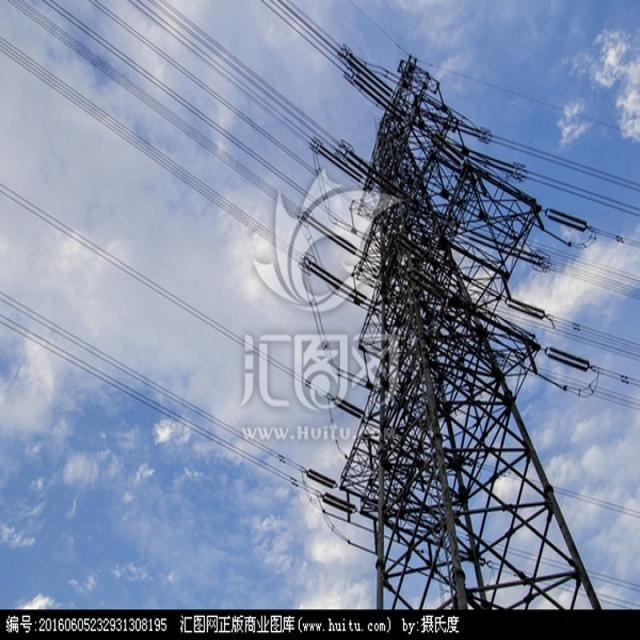non-critical vegetation: (302, 36, 618, 608)
